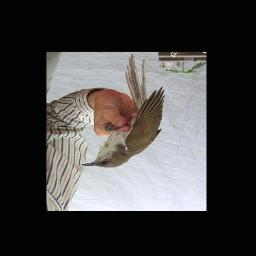Cuckoo: (81, 56, 164, 169)
